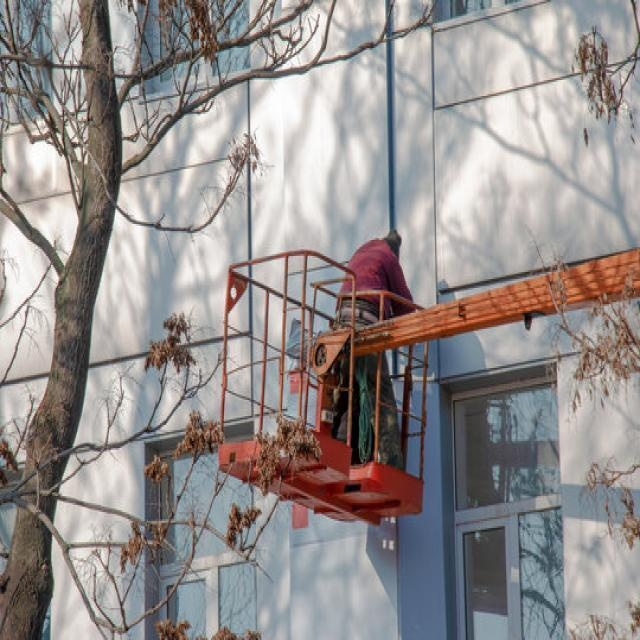Arnes_seguridad: (334, 297, 382, 326)
